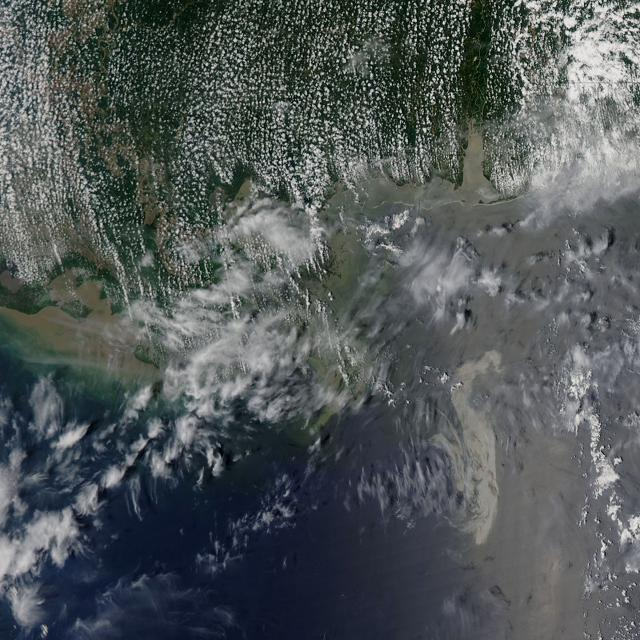oil spill: (426, 343, 604, 639), (356, 438, 428, 542)
